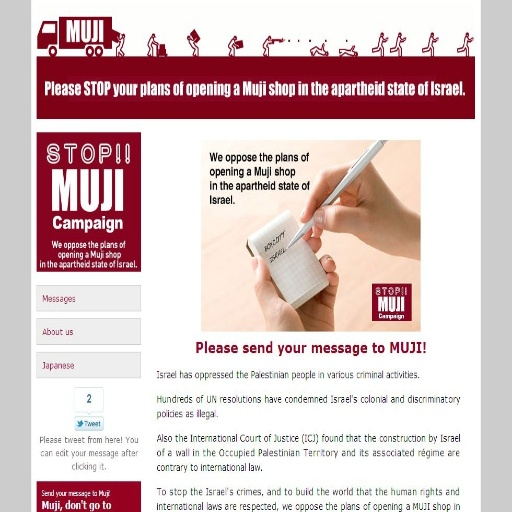hand: (295, 158, 398, 263), (249, 226, 339, 332)
